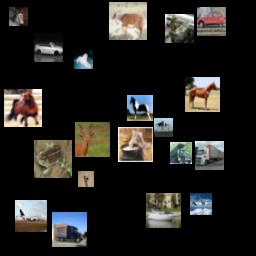airplane: (15, 200, 47, 232), (190, 193, 212, 215), (154, 118, 173, 137)
automobile: (34, 33, 63, 62), (197, 7, 226, 36)
bird: (78, 171, 94, 187)
cat: (118, 127, 153, 162), (165, 14, 194, 43)
deer: (109, 2, 147, 40), (75, 122, 110, 157)
dog: (74, 50, 93, 69)
frog: (34, 140, 72, 178)
ship: (146, 193, 181, 228)
truck: (52, 212, 87, 247), (195, 141, 224, 170), (170, 142, 192, 164)
